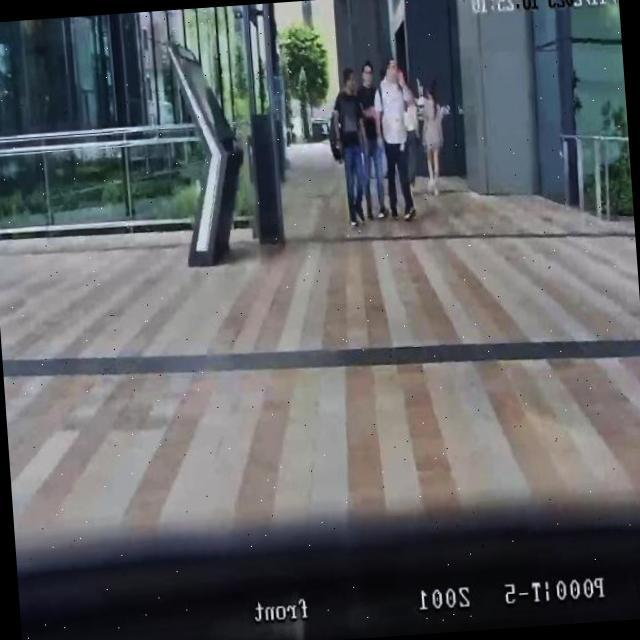person: (374, 55, 419, 224), (329, 64, 372, 228), (354, 59, 390, 220), (396, 60, 426, 196), (417, 82, 448, 196)
